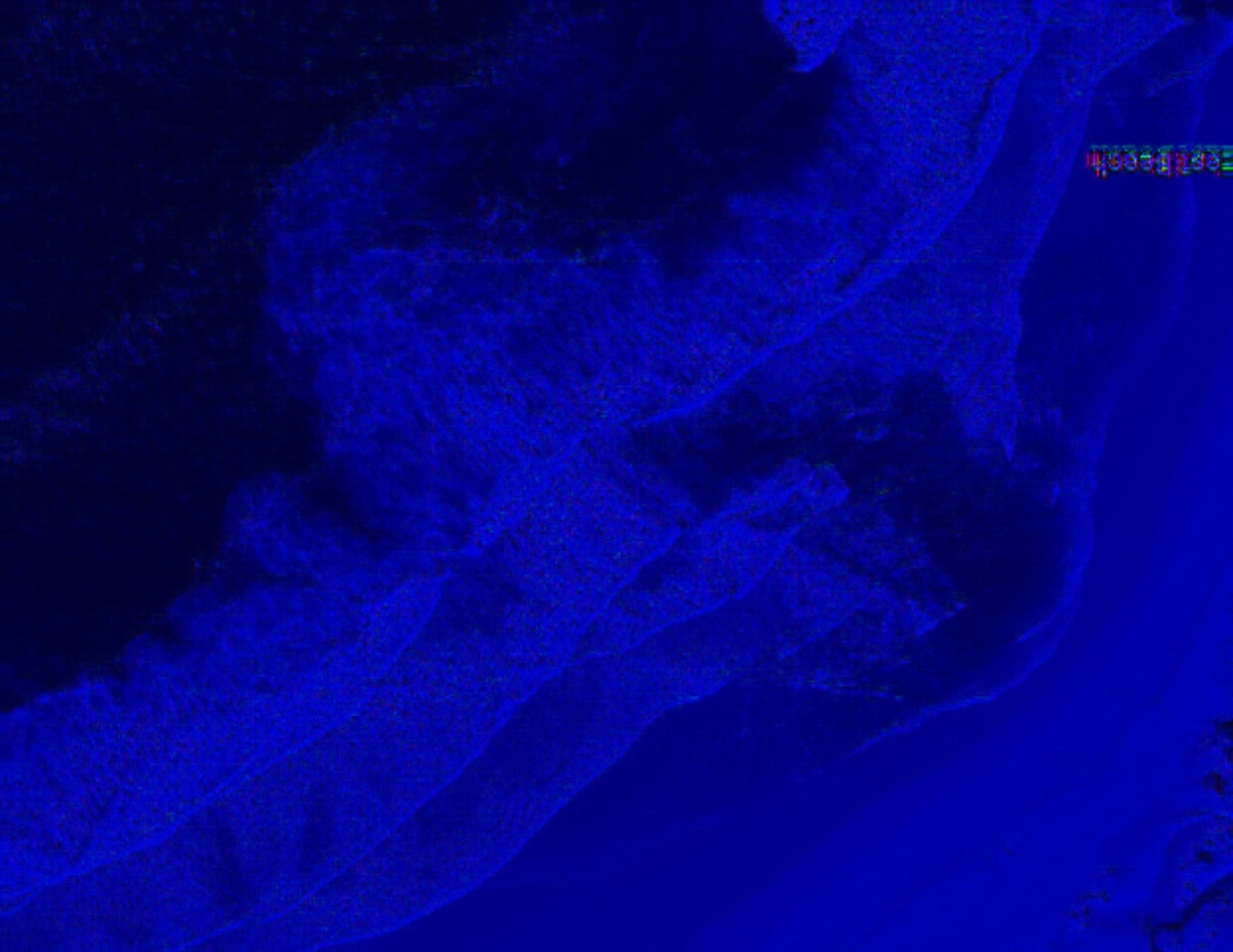rip_current: (295, 189, 1113, 619)
